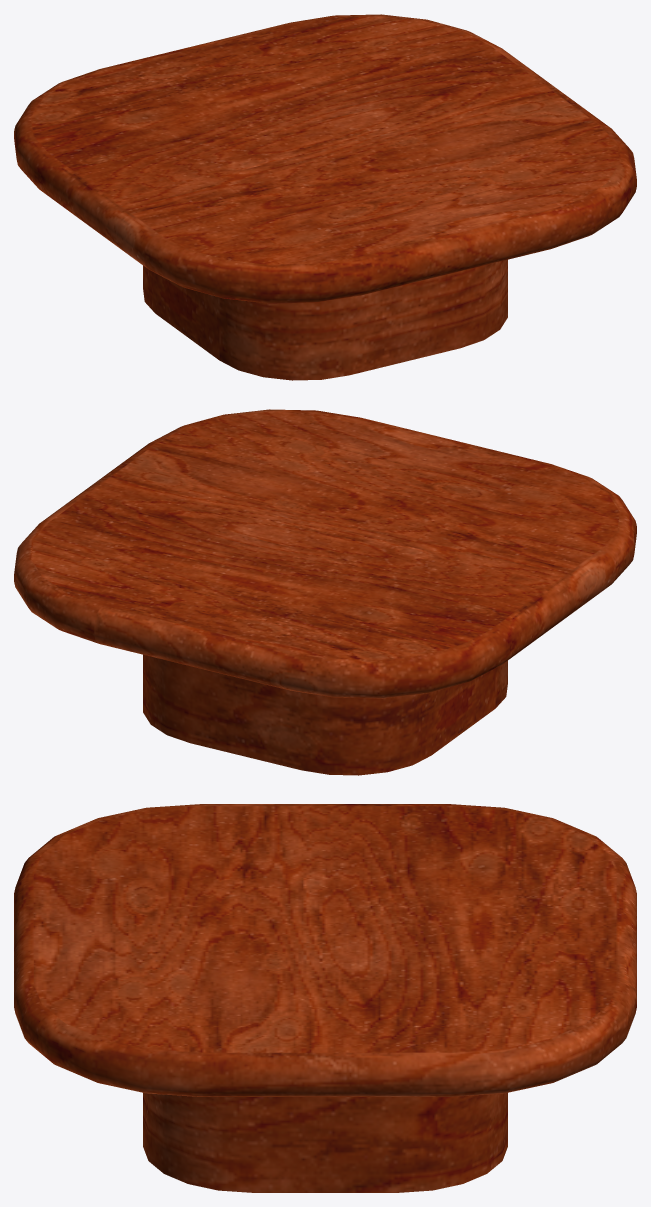
Rendered from CoffeeTable_Sq_Rough2.glb.
The picture shows the model from 3 angles, top to bottom: view 1: azimuth 30°, elevation 25°; view 2: azimuth 150°, elevation 25°; view 3: azimuth 270°, elevation 25°; orthographic projection. The views are drawn at different scales.
Parts seen in each view (by area): view 1: Cube.007, Cube; view 2: Cube.007, Cube; view 3: Cube.007, Cube.
Boxes of the visible parts, x1,y1,x2,y2 form: Cube.007: (14,14,636,303); Cube: (143,259,507,380); Cube.007: (14,409,636,698); Cube: (143,654,507,775); Cube.007: (14,804,636,1096); Cube: (143,1093,507,1192).
Size of the model in its own units: 1.53 by 0.5061 by 1.53.
Materials: 1 (1 with a texture image).
